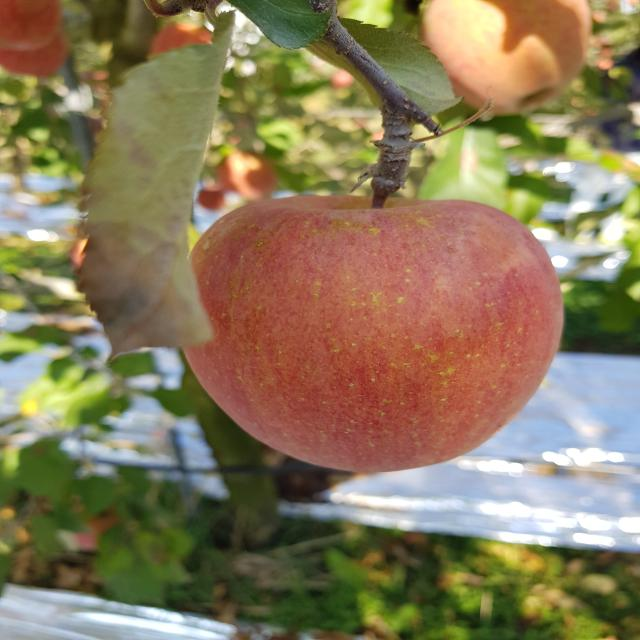fresh: (165, 181, 580, 486)
